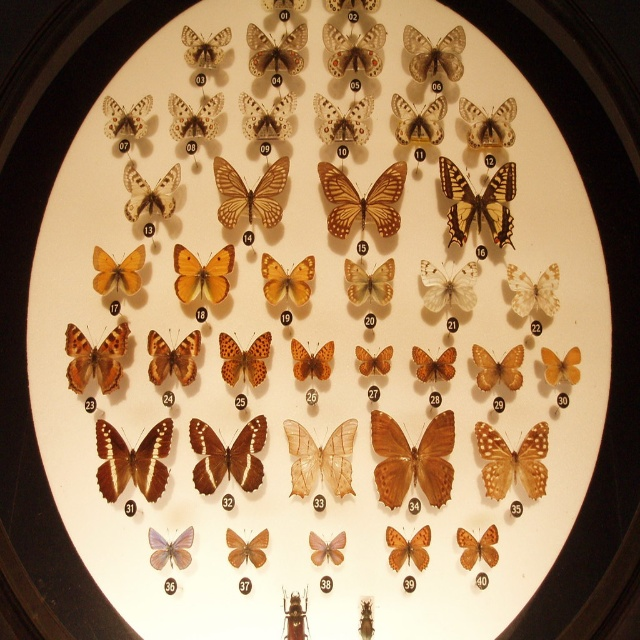Butterfly: (368, 410, 468, 524), (94, 415, 172, 508), (440, 157, 514, 247), (316, 161, 402, 238), (186, 418, 267, 494), (472, 421, 548, 499), (284, 421, 354, 499), (214, 157, 288, 225), (66, 321, 131, 398), (402, 25, 467, 83), (172, 241, 232, 303), (121, 160, 178, 224), (246, 22, 306, 79), (144, 329, 200, 390), (421, 258, 479, 315), (325, 23, 385, 75), (217, 333, 271, 390), (314, 92, 371, 146), (391, 91, 448, 145), (506, 258, 557, 318), (461, 95, 516, 149), (90, 245, 144, 298), (262, 254, 314, 307), (238, 91, 293, 140), (168, 91, 220, 141), (472, 344, 522, 395), (343, 256, 394, 305), (101, 96, 154, 137), (382, 526, 429, 572), (182, 25, 230, 69), (456, 523, 499, 571), (291, 337, 336, 382), (147, 526, 192, 569), (224, 526, 268, 568), (411, 346, 456, 383), (543, 345, 579, 388), (307, 530, 347, 565), (355, 344, 392, 377), (327, 0, 379, 13), (258, 0, 309, 13)
